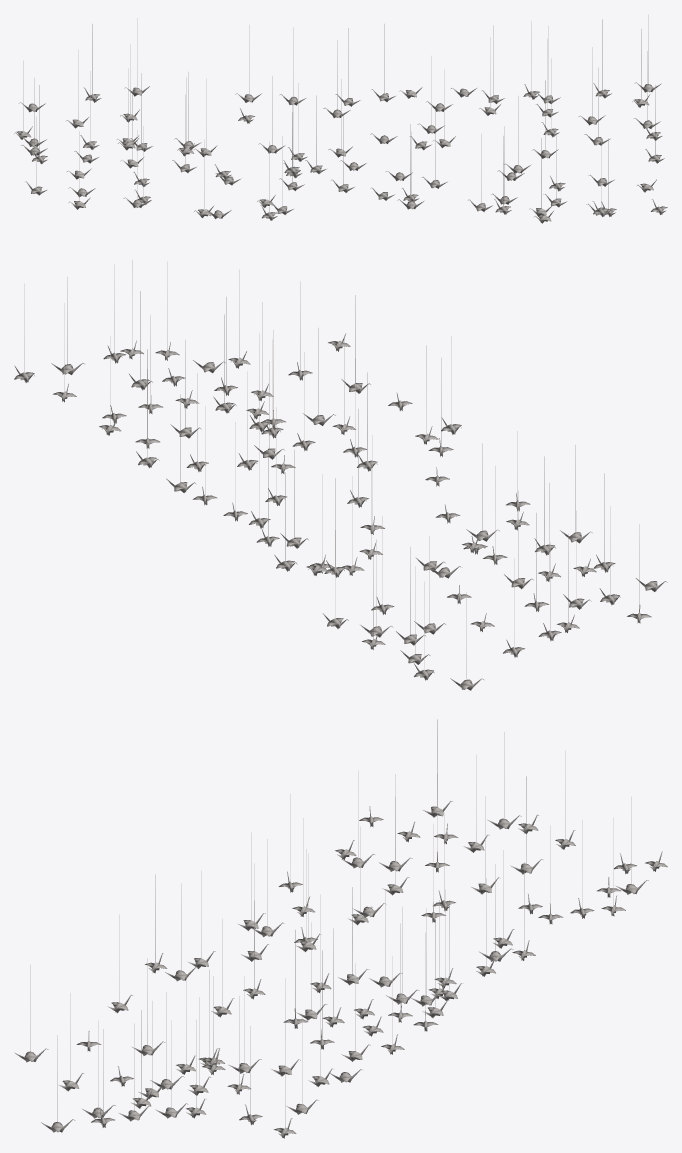
Rendered from atrium_Cranes.fbx.
The picture shows the model from 3 angles, top to bottom: view 1: azimuth 30°, elevation 25°; view 2: azimuth 150°, elevation 25°; view 3: azimuth 270°, elevation 25°; orthographic projection. The views are drawn at different scales.
Parts seen in each view (by area): view 1: paperCrane.001; view 2: paperCrane.001; view 3: paperCrane.001.
Boxes of the visible parts, x1,y1,x2,y2 form: paperCrane.001: (14,14,667,223); paperCrane.001: (14,260,667,690); paperCrane.001: (14,719,667,1138).
Bounding box in the file's own units: 1905 × 394 × 1516.
Materials: 1 (1 with a texture image).
